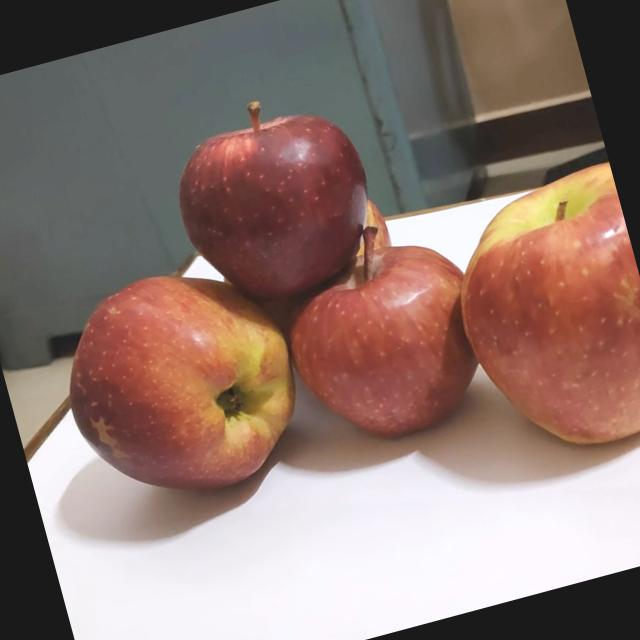apple: (36, 244, 323, 526), (413, 148, 640, 469), (260, 198, 500, 462), (154, 72, 393, 323), (206, 185, 396, 302)
